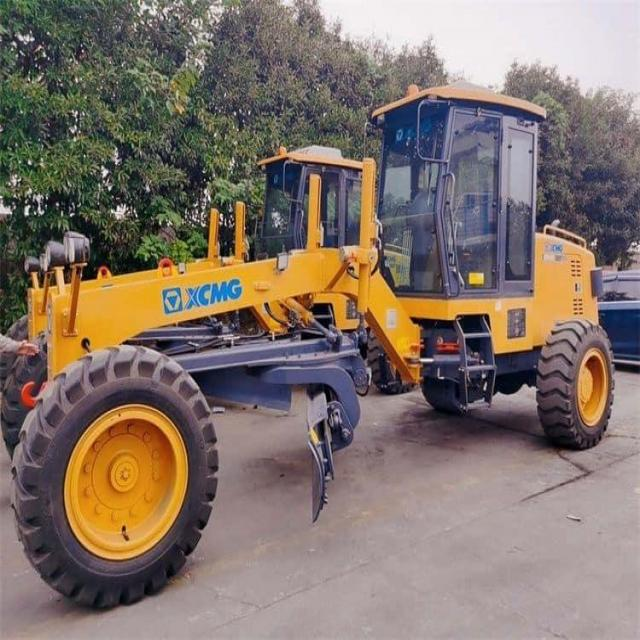Grader: (2, 78, 633, 610)
